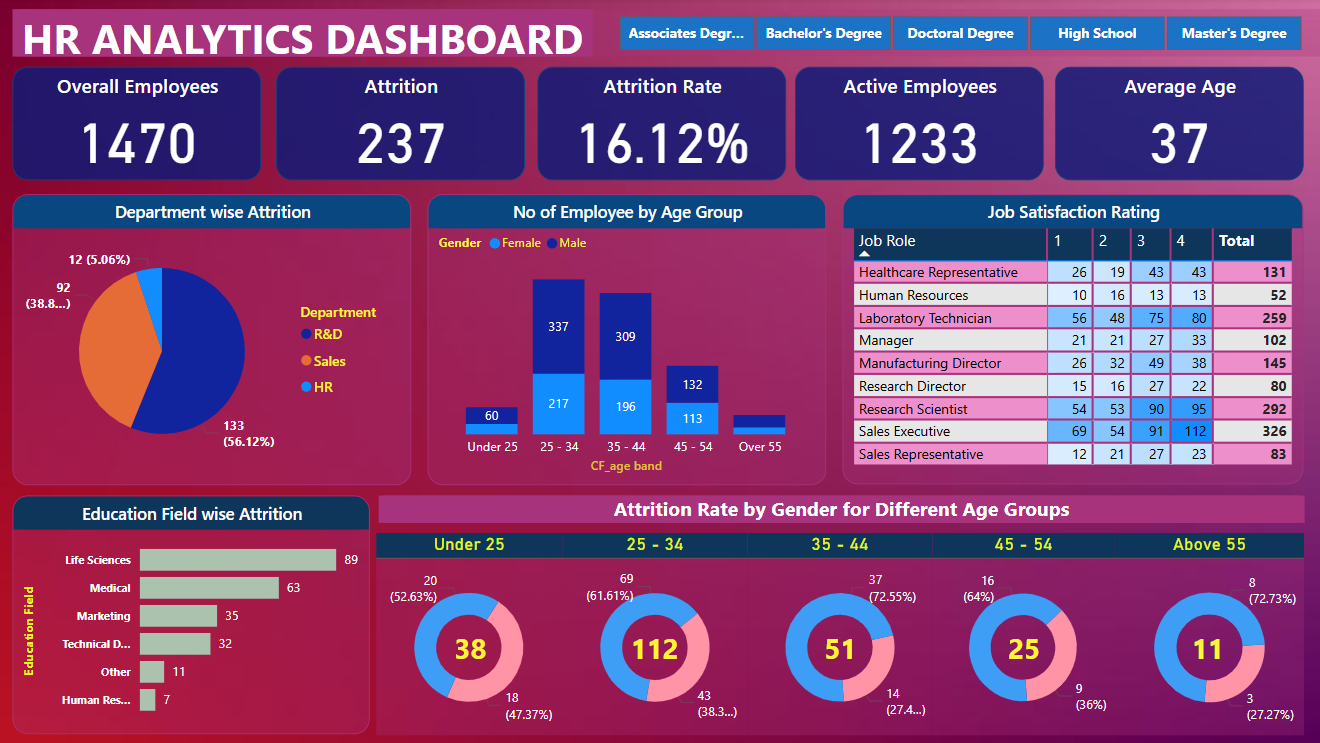

Layout of this report page (visuals, bound fields, positions):
{"tool":"powerbi","page":{"name":"Page 1","canvas":[1280,720],"ordinal":0},"visuals":[{"type":"card","title":"Overall Employees","fields":{"Values":["Sum(HR data.Employee Count)"]},"box":[12.1,66.4,240.1,109.8],"z":0},{"type":"card","title":"Attrition","fields":{"Values":["Sum(HR data.Attrition Count)"]},"box":[266.6,66.4,240.1,109.8],"z":1000},{"type":"card","title":"Attrition Rate","fields":{"Values":["HR data.Attrition Rate"]},"box":[518.8,66.4,240.1,109.8],"z":2000},{"type":"card","title":"Active Employees","fields":{"Values":["HR data.Active Employees"]},"box":[767.3,66.4,240.1,109.8],"z":3000},{"type":"card","title":"Average Age","fields":{"Values":["Avg(HR data.Age)"]},"box":[1018.2,66.4,240.1,109.8],"z":4000},{"type":"pieChart","title":"Department wise Attrition","fields":{"Category":["HR data.Department"],"Y":["Sum(HR data.Attrition Count)"]},"box":[12.1,189.4,384.9,281.1],"z":5000},{"type":"columnChart","title":"No of Employee by Age Group","fields":{"Category":["HR data.CF_age band"],"Y":["Sum(HR data.Employee Count)"],"Series":["HR data.Gender"]},"box":[412.6,189.4,384.9,281.1],"z":6000},{"type":"pivotTable","title":"Job Satisfaction Rating","fields":{"Rows":["HR data.Job Role"],"Columns":["HR data.Job Satisfaction"],"Values":["Sum(HR data.Employee Count)"]},"box":[813.1,189.4,445.2,279.9],"z":7000},{"type":"barChart","title":"Education Field wise Attrition","fields":{"Category":["HR data.Education Field"],"Y":["Sum(HR data.Attrition Count)"]},"box":[12.1,480.2,345,230.4],"z":8000},{"type":"donutChart","title":"Under 25","fields":{"Category":["HR data.Gender"],"Y":["Sum(HR data.Attrition Count)"],"Series":["HR data.CF_age band"]},"box":[363.6,516,179.8,194.9],"z":9000},{"type":"textbox","title":"Attrition Rate by Gender for Different Age Groups","box":[365,480.3,893.3,26.1],"z":10000},{"type":"donutChart","title":"25 - 34","fields":{"Category":["HR data.Gender"],"Y":["Sum(HR data.Attrition Count)"],"Series":["HR data.CF_age band"]},"box":[543.4,516,178.4,194.9],"z":11000},{"type":"donutChart","title":"35 - 44","fields":{"Category":["HR data.Gender"],"Y":["Sum(HR data.Attrition Count)"],"Series":["HR data.CF_age band"]},"box":[721.8,516,178.4,194.9],"z":12000},{"type":"donutChart","title":"45 - 54","fields":{"Category":["HR data.Gender"],"Y":["Sum(HR data.Attrition Count)"],"Series":["HR data.CF_age band"]},"box":[900.2,516,175.6,194.9],"z":13000},{"type":"donutChart","title":"Above 55","fields":{"Category":["HR data.Gender"],"Y":["Sum(HR data.Attrition Count)"],"Series":["HR data.CF_age band"]},"box":[1075.8,516,182.5,194.9],"z":14000},{"type":"card","fields":{"Values":["Sum(HR data.Attrition Count)"]},"box":[430.9,595.5,46.7,65.9],"z":15000},{"type":"card","fields":{"Values":["Sum(HR data.Attrition Count)"]},"box":[603.8,595.5,57.6,65.9],"z":16000},{"type":"card","fields":{"Values":["Sum(HR data.Attrition Count)"]},"box":[787.7,595.5,46.7,65.9],"z":17000},{"type":"card","fields":{"Values":["Sum(HR data.Attrition Count)"]},"box":[964.7,595.5,46.7,65.9],"z":18000},{"type":"card","fields":{"Values":["Sum(HR data.Attrition Count)"]},"box":[1143.1,595.5,46.7,65.9],"z":19000},{"type":"textbox","title":"HR ANALYTICS DASHBOARD","box":[12.3,11,559.9,45.3],"z":19001},{"type":"slicer","fields":{"Values":["HR data.Education"]},"box":[571.9,10.9,708.2,45.8],"z":19002}]}

Visuals, with their boxes in screenshot pixels (x1, y1, x2, y2), scaled from the page's 1280x720 canvas onto the 1320x743 screenshot:
"Overall Employees" card: BBox(12, 69, 260, 182)
"Attrition" card: BBox(275, 69, 523, 182)
"Attrition Rate" card: BBox(535, 69, 783, 182)
"Active Employees" card: BBox(791, 69, 1039, 182)
"Average Age" card: BBox(1050, 69, 1298, 182)
"Department wise Attrition" pieChart: BBox(12, 195, 409, 486)
"No of Employee by Age Group" columnChart: BBox(425, 195, 822, 486)
"Job Satisfaction Rating" pivotTable: BBox(839, 195, 1298, 484)
"Education Field wise Attrition" barChart: BBox(12, 496, 368, 733)
"Under 25" donutChart: BBox(375, 532, 560, 734)
"Attrition Rate by Gender for Different Age Groups" textbox: BBox(376, 496, 1298, 523)
"25 - 34" donutChart: BBox(560, 532, 744, 734)
"35 - 44" donutChart: BBox(744, 532, 928, 734)
"45 - 54" donutChart: BBox(928, 532, 1109, 734)
"Above 55" donutChart: BBox(1109, 532, 1298, 734)
card - Sum(HR data.Attrition Count): BBox(444, 615, 493, 683)
card - Sum(HR data.Attrition Count): BBox(623, 615, 682, 683)
card - Sum(HR data.Attrition Count): BBox(812, 615, 860, 683)
card - Sum(HR data.Attrition Count): BBox(995, 615, 1043, 683)
card - Sum(HR data.Attrition Count): BBox(1179, 615, 1227, 683)
"HR ANALYTICS DASHBOARD" textbox: BBox(13, 11, 590, 58)
slicer - HR data.Education: BBox(590, 11, 1319, 59)
